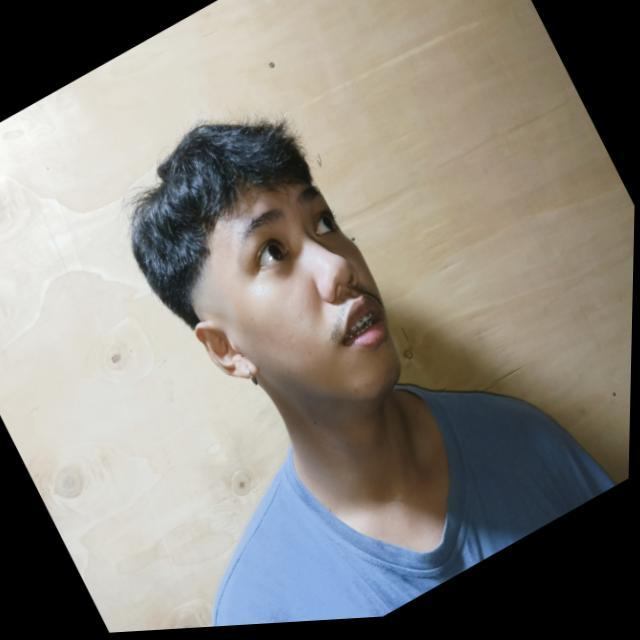Nonhelmet: (124, 113, 408, 407)
